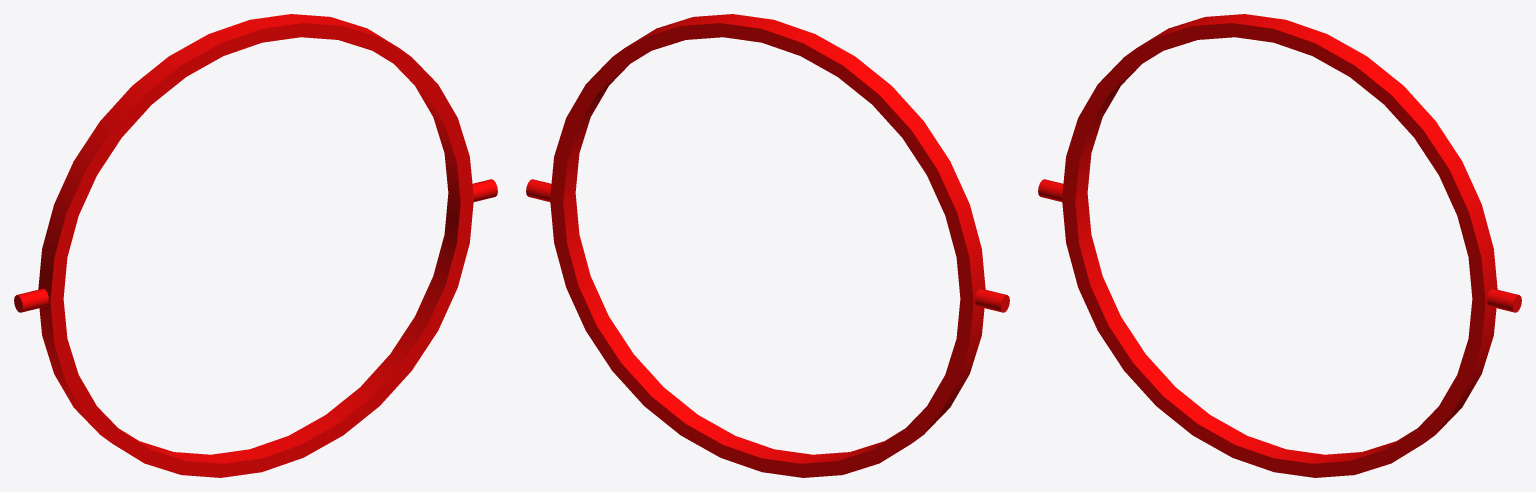
Rendered from gimbal_inner_x.glb.
3 views of the same model, side by side, from view 1: azimuth 30°, elevation 25°; view 2: azimuth 150°, elevation 25°; view 3: azimuth 330°, elevation 25° (orthographic).
Parts seen in each view (by area): view 1: GimbalRed.001; view 2: GimbalRed.001; view 3: GimbalRed.001.
Boxes of the visible parts, x1,y1,x2,y2 form: GimbalRed.001: (14,14,497,477); GimbalRed.001: (526,14,1009,477); GimbalRed.001: (1038,14,1521,477).
Bounding box in the file's own units: 6.65 × 5.93 × 0.3.
